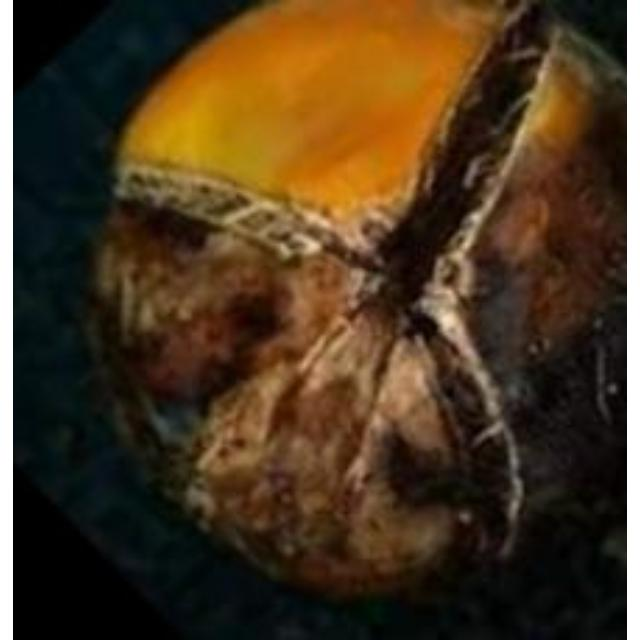damaged: (84, 0, 625, 589)
